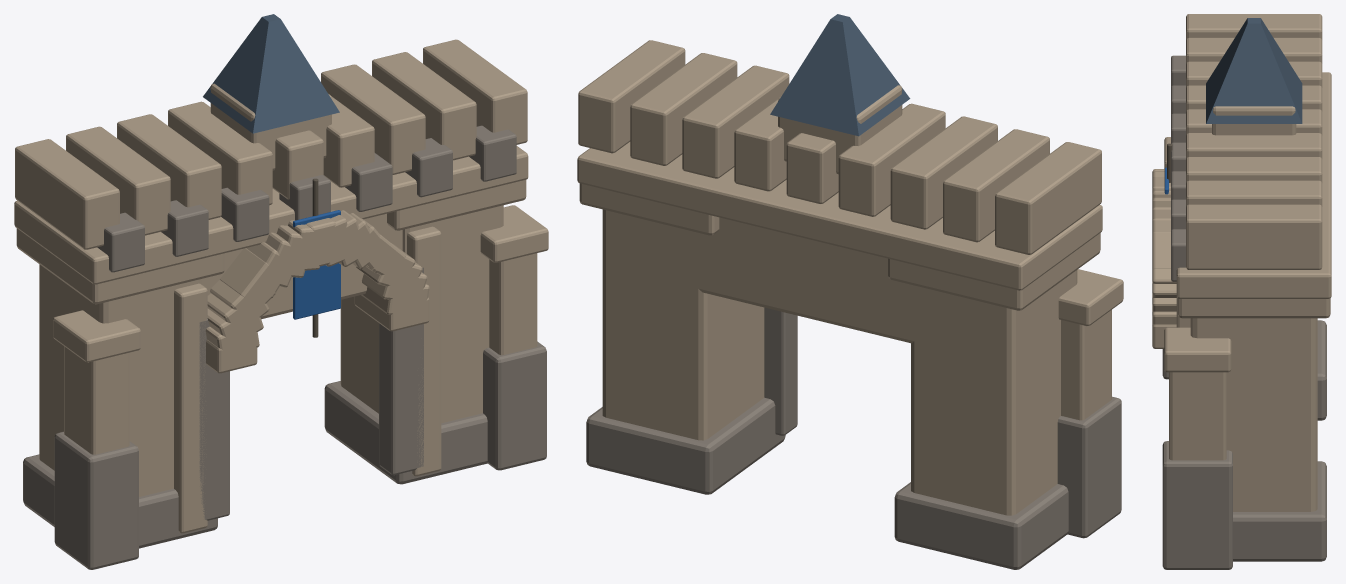
File: Valoria_MainGate_DefV1.glb
The picture shows the model from 3 angles, left to right: view 1: azimuth 30°, elevation 25°; view 2: azimuth 150°, elevation 25°; view 3: azimuth 270°, elevation 25°; orthographic projection. The views are drawn at different scales.
Visible parts, largest first — view 1: Gate pier shaft, Gate pier shaft.001, Gate upper cornice, Gate outer buttress base, Gate slate lantern roof, Gate merlon, Gate outer buttress base.001, Gate outer jamb, Gate inner jamb.001, Gate outer buttress shaft, Gate pier plinth.001, Gate merlon.007 (+44 smaller); view 2: Gate pier shaft, Gate pier shaft.001, Gate upper cornice, Gate bridge, Gate pier plinth.001, Gate pier plinth, Gate slate lantern roof, Gate merlon, Gate outer buttress base, Gate merlon.008, Gate merlon.002, Gate merlon.007 (+11 smaller); view 3: Gate pier shaft.001, Gate merlon.008, Gate outer buttress base.001, Gate slate lantern roof, Gate upper cornice, Gate pier plinth.001, Gate outer buttress shaft.001, Gate merlon.007, Gate merlon.006, Gate merlon.005, Gate pier capital.001, Gate merlon (+21 smaller).
Boxes of the visible parts, left/top/right/bottom form: Gate pier shaft: left=39, top=264, right=201, bottom=496; Gate pier shaft.001: left=340, top=205, right=503, bottom=423; Gate upper cornice: left=14, top=146, right=528, bottom=284; Gate outer buttress base: left=54, top=431, right=138, bottom=569; Gate slate lantern roof: left=203, top=14, right=339, bottom=133; Gate merlon: left=15, top=139, right=119, bottom=249; Gate outer buttress base.001: left=483, top=341, right=546, bottom=470; Gate outer jamb: left=174, top=283, right=207, bottom=533; Gate inner jamb.001: left=379, top=267, right=423, bottom=475; Gate outer buttress shaft: left=64, top=346, right=129, bottom=454; Gate pier plinth.001: left=324, top=381, right=487, bottom=484; Gate merlon.007: left=372, top=52, right=476, bottom=160; Gate pier shaft: left=911, top=270, right=1077, bottom=515; Gate pier shaft.001: left=602, top=209, right=764, bottom=440; Gate upper cornice: left=577, top=142, right=1102, bottom=290; Gate bridge: left=698, top=217, right=915, bottom=343; Gate pier plinth.001: left=586, top=397, right=785, bottom=494; Gate pier plinth: left=894, top=482, right=1068, bottom=569; Gate slate lantern roof: left=770, top=14, right=910, bottom=136; Gate merlon: left=995, top=142, right=1101, bottom=254; Gate outer buttress base: left=1057, top=396, right=1121, bottom=538; Gate merlon.008: left=578, top=40, right=685, bottom=153; Gate merlon.002: left=890, top=116, right=997, bottom=229; Gate merlon.007: left=630, top=53, right=737, bottom=165; Gate pier shaft.001: left=1190, top=318, right=1317, bottom=511; Gate merlon.008: left=1186, top=204, right=1322, bottom=269; Gate outer buttress base.001: left=1162, top=441, right=1232, bottom=569; Gate slate lantern roof: left=1206, top=18, right=1302, bottom=123; Gate upper cornice: left=1176, top=72, right=1331, bottom=298; Gate pier plinth.001: left=1233, top=461, right=1326, bottom=561; Gate outer buttress shaft.001: left=1169, top=372, right=1226, bottom=460; Gate merlon.007: left=1186, top=180, right=1322, bottom=206; Gate merlon.006: left=1186, top=157, right=1322, bottom=182; Gate merlon.005: left=1186, top=133, right=1322, bottom=159; Gate pier capital.001: left=1178, top=298, right=1330, bottom=318; Gate merlon: left=1186, top=14, right=1322, bottom=39.
Bounding box in the file's own units: 4.36 × 4.17 × 1.53.
